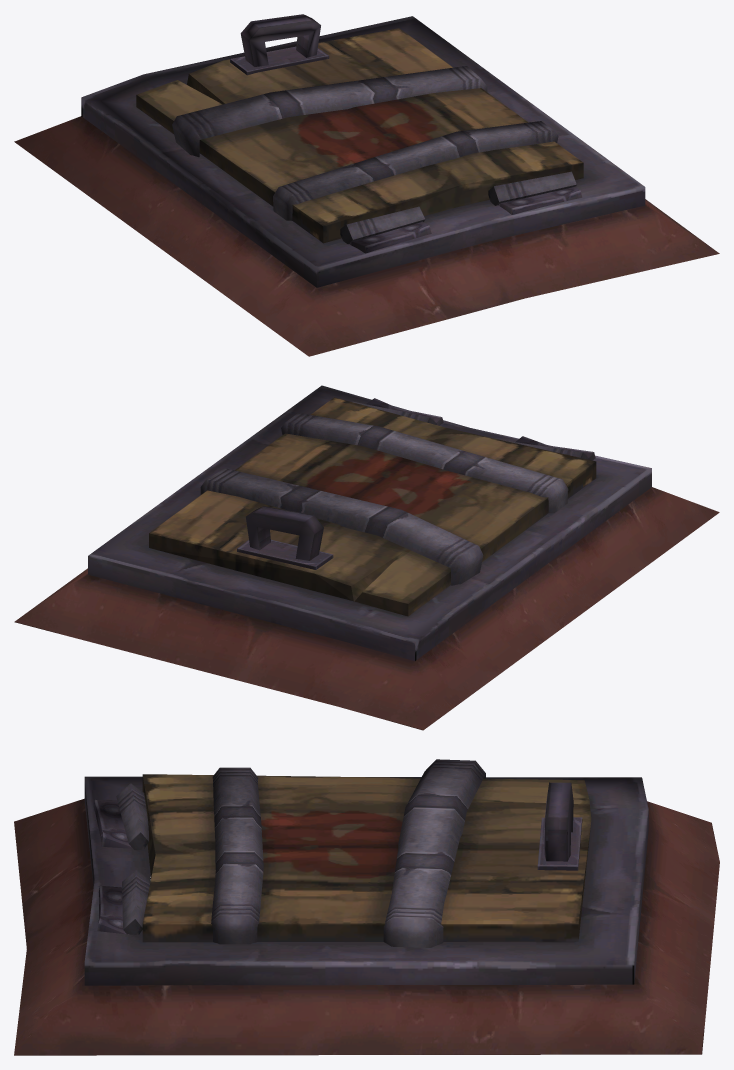
File: lava_trapdoor_01.fbx
The picture shows the model from 3 angles, top to bottom: view 1: azimuth 30°, elevation 25°; view 2: azimuth 150°, elevation 25°; view 3: azimuth 270°, elevation 25°; orthographic projection. The views are drawn at different scales.
Parts seen in each view (by area): view 1: lava_trapdoor_01; view 2: lava_trapdoor_01; view 3: lava_trapdoor_01.
Boxes of the visible parts, left/top/right/bottom form: lava_trapdoor_01: left=14, top=14, right=719, bottom=356; lava_trapdoor_01: left=14, top=385, right=719, bottom=730; lava_trapdoor_01: left=14, top=759, right=719, bottom=1055.
Bounding box in the file's own units: 2.34 × 0.6555 × 2.94.
